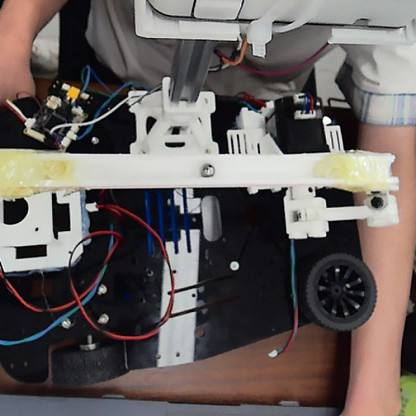ironball: (200, 161, 214, 179)
